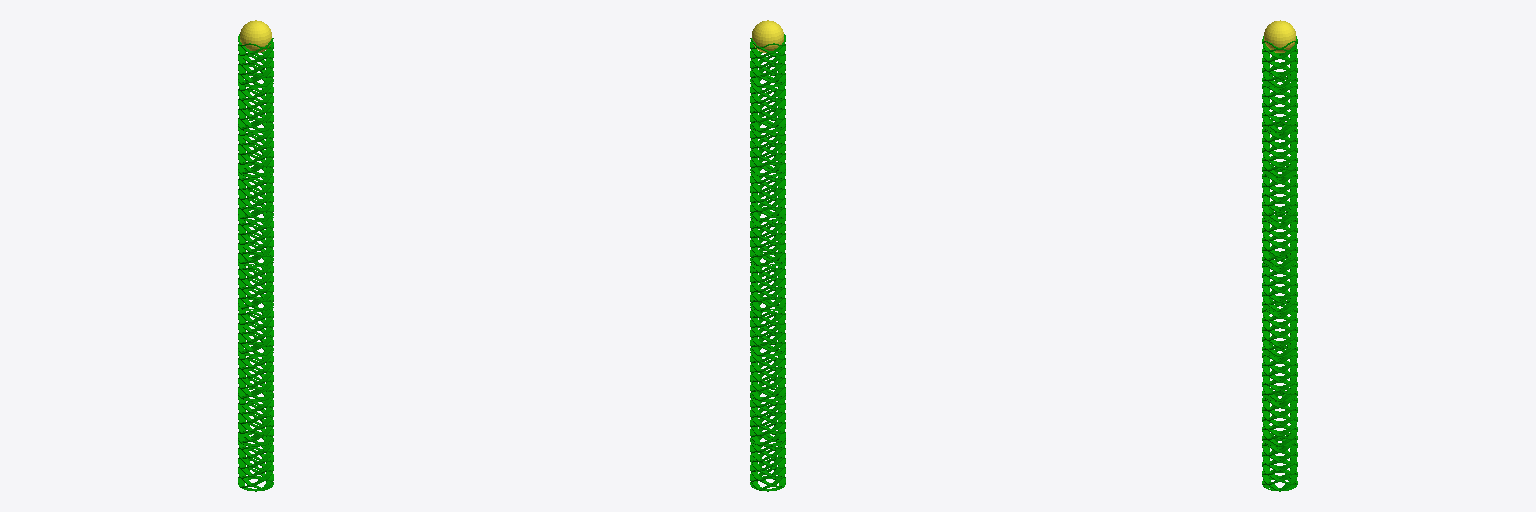
URDF robot description (flexy_arm):
<?xml version="1.0" ?>
<!-- =================================================================================== -->
<!-- |    This document was autogenerated by xacro from assets/flexy_arm.xacro         | -->
<!-- |    EDITING THIS FILE BY HAND IS NOT RECOMMENDED                                 | -->
<!-- =================================================================================== -->
<robot name="flexy_arm">
  <!-- Create the base link -->
  <link name="arm_base"/>
  <link name="arm_link_1">
    <visual>
      <geometry>
        <mesh filename="meshes/single_segment.dae" scale="0.0006 0.0006 0.00030000000000000003"/>
      </geometry>
      <origin xyz="0 0 0.015"/>
    </visual>
    <collision>
      <geometry>
        <cylinder length="0.03" radius="0.01"/>
      </geometry>
      <origin xyz="0 0 0.015"/>
    </collision>
    <inertial>
      <mass value="0.09090909090909091"/>
      <inertia ixx="9.090909090909091e-06" ixy="0.0" ixz="0.0" iyy="9.090909090909091e-06" iyz="0.0" izz="4.5454545454545455e-06"/>
    </inertial>
  </link>
  <joint name="arm_joint_1" type="revolute">
    <parent link="arm_base"/>
    <child link="arm_link_1"/>
    <axis xyz="1 0 0"/>
    <origin rpy="0.0 0.0 1.57079" xyz=" 0.0 0.0 0.0"/>
    <limit effort="10.0" lower="-1.57" upper="1.57" velocity="1.0"/>
  </joint>
  <!-- Create the next link -->
  <link name="arm_link_2">
    <visual>
      <geometry>
        <mesh filename="meshes/single_segment.dae" scale="0.0006 0.0006 0.00030000000000000003"/>
      </geometry>
      <origin xyz="0 0 0.015"/>
    </visual>
    <collision>
      <geometry>
        <cylinder length="0.03" radius="0.01"/>
      </geometry>
      <origin xyz="0 0 0.015"/>
    </collision>
    <inertial>
      <mass value="0.09090909090909091"/>
      <inertia ixx="9.090909090909091e-06" ixy="0.0" ixz="0.0" iyy="9.090909090909091e-06" iyz="0.0" izz="4.5454545454545455e-06"/>
    </inertial>
  </link>
  <!-- Create the revolute joint -->
  <joint name="arm_joint_2" type="revolute">
    <parent link="arm_link_1"/>
    <child link="arm_link_2"/>
    <axis xyz="1 0 0"/>
    <origin rpy="0 0 0" xyz="0 0 0.03"/>
    <limit effort="10.0" lower="-1.57" upper="1.57" velocity="1.0"/>
  </joint>
  <!-- Create the next link -->
  <link name="arm_link_3">
    <visual>
      <geometry>
        <mesh filename="meshes/single_segment.dae" scale="0.0006 0.0006 0.00030000000000000003"/>
      </geometry>
      <origin xyz="0 0 0.015"/>
    </visual>
    <collision>
      <geometry>
        <cylinder length="0.03" radius="0.01"/>
      </geometry>
      <origin xyz="0 0 0.015"/>
    </collision>
    <inertial>
      <mass value="0.09090909090909091"/>
      <inertia ixx="9.090909090909091e-06" ixy="0.0" ixz="0.0" iyy="9.090909090909091e-06" iyz="0.0" izz="4.5454545454545455e-06"/>
    </inertial>
  </link>
  <!-- Create the revolute joint -->
  <joint name="arm_joint_3" type="revolute">
    <parent link="arm_link_2"/>
    <child link="arm_link_3"/>
    <axis xyz="1 0 0"/>
    <origin rpy="0 0 0" xyz="0 0 0.03"/>
    <limit effort="10.0" lower="-1.57" upper="1.57" velocity="1.0"/>
  </joint>
  <!-- Create the next link -->
  <link name="arm_link_4">
    <visual>
      <geometry>
        <mesh filename="meshes/single_segment.dae" scale="0.0006 0.0006 0.00030000000000000003"/>
      </geometry>
      <origin xyz="0 0 0.015"/>
    </visual>
    <collision>
      <geometry>
        <cylinder length="0.03" radius="0.01"/>
      </geometry>
      <origin xyz="0 0 0.015"/>
    </collision>
    <inertial>
      <mass value="0.09090909090909091"/>
      <inertia ixx="9.090909090909091e-06" ixy="0.0" ixz="0.0" iyy="9.090909090909091e-06" iyz="0.0" izz="4.5454545454545455e-06"/>
    </inertial>
  </link>
  <!-- Create the revolute joint -->
  <joint name="arm_joint_4" type="revolute">
    <parent link="arm_link_3"/>
    <child link="arm_link_4"/>
    <axis xyz="1 0 0"/>
    <origin rpy="0 0 0" xyz="0 0 0.03"/>
    <limit effort="10.0" lower="-1.57" upper="1.57" velocity="1.0"/>
  </joint>
  <!-- Create the next link -->
  <link name="arm_link_5">
    <visual>
      <geometry>
        <mesh filename="meshes/single_segment.dae" scale="0.0006 0.0006 0.00030000000000000003"/>
      </geometry>
      <origin xyz="0 0 0.015"/>
    </visual>
    <collision>
      <geometry>
        <cylinder length="0.03" radius="0.01"/>
      </geometry>
      <origin xyz="0 0 0.015"/>
    </collision>
    <inertial>
      <mass value="0.09090909090909091"/>
      <inertia ixx="9.090909090909091e-06" ixy="0.0" ixz="0.0" iyy="9.090909090909091e-06" iyz="0.0" izz="4.5454545454545455e-06"/>
    </inertial>
  </link>
  <!-- Create the revolute joint -->
  <joint name="arm_joint_5" type="revolute">
    <parent link="arm_link_4"/>
    <child link="arm_link_5"/>
    <axis xyz="1 0 0"/>
    <origin rpy="0 0 0" xyz="0 0 0.03"/>
    <limit effort="10.0" lower="-1.57" upper="1.57" velocity="1.0"/>
  </joint>
  <!-- Create the next link -->
  <link name="arm_link_6">
    <visual>
      <geometry>
        <mesh filename="meshes/single_segment.dae" scale="0.0006 0.0006 0.00030000000000000003"/>
      </geometry>
      <origin xyz="0 0 0.015"/>
    </visual>
    <collision>
      <geometry>
        <cylinder length="0.03" radius="0.01"/>
      </geometry>
      <origin xyz="0 0 0.015"/>
    </collision>
    <inertial>
      <mass value="0.09090909090909091"/>
      <inertia ixx="9.090909090909091e-06" ixy="0.0" ixz="0.0" iyy="9.090909090909091e-06" iyz="0.0" izz="4.5454545454545455e-06"/>
    </inertial>
  </link>
  <!-- Create the revolute joint -->
  <joint name="arm_joint_6" type="revolute">
    <parent link="arm_link_5"/>
    <child link="arm_link_6"/>
    <axis xyz="1 0 0"/>
    <origin rpy="0 0 0" xyz="0 0 0.03"/>
    <limit effort="10.0" lower="-1.57" upper="1.57" velocity="1.0"/>
  </joint>
  <!-- Create the next link -->
  <link name="arm_link_7">
    <visual>
      <geometry>
        <mesh filename="meshes/single_segment.dae" scale="0.0006 0.0006 0.00030000000000000003"/>
      </geometry>
      <origin xyz="0 0 0.015"/>
    </visual>
    <collision>
      <geometry>
        <cylinder length="0.03" radius="0.01"/>
      </geometry>
      <origin xyz="0 0 0.015"/>
    </collision>
    <inertial>
      <mass value="0.09090909090909091"/>
      <inertia ixx="9.090909090909091e-06" ixy="0.0" ixz="0.0" iyy="9.090909090909091e-06" iyz="0.0" izz="4.5454545454545455e-06"/>
    </inertial>
  </link>
  <!-- Create the revolute joint -->
  <joint name="arm_joint_7" type="revolute">
    <parent link="arm_link_6"/>
    <child link="arm_link_7"/>
    <axis xyz="1 0 0"/>
    <origin rpy="0 0 0" xyz="0 0 0.03"/>
    <limit effort="10.0" lower="-1.57" upper="1.57" velocity="1.0"/>
  </joint>
  <!-- Create the next link -->
  <link name="arm_link_8">
    <visual>
      <geometry>
        <mesh filename="meshes/single_segment.dae" scale="0.0006 0.0006 0.00030000000000000003"/>
      </geometry>
      <origin xyz="0 0 0.015"/>
    </visual>
    <collision>
      <geometry>
        <cylinder length="0.03" radius="0.01"/>
      </geometry>
      <origin xyz="0 0 0.015"/>
    </collision>
    <inertial>
      <mass value="0.09090909090909091"/>
      <inertia ixx="9.090909090909091e-06" ixy="0.0" ixz="0.0" iyy="9.090909090909091e-06" iyz="0.0" izz="4.5454545454545455e-06"/>
    </inertial>
  </link>
  <!-- Create the revolute joint -->
  <joint name="arm_joint_8" type="revolute">
    <parent link="arm_link_7"/>
    <child link="arm_link_8"/>
    <axis xyz="1 0 0"/>
    <origin rpy="0 0 0" xyz="0 0 0.03"/>
    <limit effort="10.0" lower="-1.57" upper="1.57" velocity="1.0"/>
  </joint>
  <!-- Create the next link -->
  <link name="arm_link_9">
    <visual>
      <geometry>
        <mesh filename="meshes/single_segment.dae" scale="0.0006 0.0006 0.00030000000000000003"/>
      </geometry>
      <origin xyz="0 0 0.015"/>
    </visual>
    <collision>
      <geometry>
        <cylinder length="0.03" radius="0.01"/>
      </geometry>
      <origin xyz="0 0 0.015"/>
    </collision>
    <inertial>
      <mass value="0.09090909090909091"/>
      <inertia ixx="9.090909090909091e-06" ixy="0.0" ixz="0.0" iyy="9.090909090909091e-06" iyz="0.0" izz="4.5454545454545455e-06"/>
    </inertial>
  </link>
  <!-- Create the revolute joint -->
  <joint name="arm_joint_9" type="revolute">
    <parent link="arm_link_8"/>
    <child link="arm_link_9"/>
    <axis xyz="1 0 0"/>
    <origin rpy="0 0 0" xyz="0 0 0.03"/>
    <limit effort="10.0" lower="-1.57" upper="1.57" velocity="1.0"/>
  </joint>
  <!-- Create the next link -->
  <link name="arm_link_10">
    <visual>
      <geometry>
        <mesh filename="meshes/single_segment.dae" scale="0.0006 0.0006 0.00030000000000000003"/>
      </geometry>
      <origin xyz="0 0 0.015"/>
    </visual>
    <collision>
      <geometry>
        <cylinder length="0.03" radius="0.01"/>
      </geometry>
      <origin xyz="0 0 0.015"/>
    </collision>
    <inertial>
      <mass value="0.09090909090909091"/>
      <inertia ixx="9.090909090909091e-06" ixy="0.0" ixz="0.0" iyy="9.090909090909091e-06" iyz="0.0" izz="4.5454545454545455e-06"/>
    </inertial>
  </link>
  <!-- Create the revolute joint -->
  <joint name="arm_joint_10" type="revolute">
    <parent link="arm_link_9"/>
    <child link="arm_link_10"/>
    <axis xyz="1 0 0"/>
    <origin rpy="0 0 0" xyz="0 0 0.03"/>
    <limit effort="10.0" lower="-1.57" upper="1.57" velocity="1.0"/>
  </joint>
  <link name="arm_sphere">
    <visual>
      <geometry>
        <sphere radius="0.01"/>
      </geometry>
      <origin xyz="0 0 0.01"/>
    </visual>
    <collision>
      <geometry>
        <sphere radius="0.01"/>
      </geometry>
      <origin xyz="0 0 0.01"/>
    </collision>
    <inertial>
      <mass value="0.09090909090909091"/>
      <inertia ixx="3.6363636363636366e-06" ixy="0.0" ixz="0.0" iyy="3.6363636363636366e-06" iyz="0.0" izz="3.6363636363636366e-06"/>
    </inertial>
  </link>
  <joint name="arm_fixed_joint_sphere" type="fixed">
    <parent link="arm_link_10"/>
    <child link="arm_sphere"/>
    <origin rpy="0 0 0" xyz="0 0 0.019999999999999997"/>
  </joint>
</robot>

--- Render facts (derived) ---
The picture shows the robot from 3 angles, left to right: view 1: azimuth 30°, elevation 25°; view 2: azimuth 150°, elevation 25°; view 3: azimuth 270°, elevation 25°; orthographic projection.
Model flexy_arm with 12 links and 11 joints (10 revolute, 1 fixed), rooted at arm_base, posed all joints at 0.
Visible links, largest first — view 1: arm_link_2, arm_link_8, arm_link_7, arm_link_6, arm_link_1, arm_link_5, arm_link_9, arm_link_4, arm_link_3, arm_link_10, arm_sphere; view 2: arm_link_2, arm_link_7, arm_link_6, arm_link_9, arm_link_1, arm_link_5, arm_link_3, arm_link_4, arm_link_8, arm_link_10, arm_sphere; view 3: arm_link_1, arm_link_5, arm_link_3, arm_link_7, arm_link_4, arm_link_6, arm_link_9, arm_link_2, arm_link_8, arm_link_10, arm_sphere.
Link boxes in pixels (x1=…): arm_link_2: x1=238, y1=389, x2=273, y2=446; arm_link_8: x1=238, y1=120, x2=273, y2=177; arm_link_7: x1=238, y1=165, x2=273, y2=222; arm_link_6: x1=238, y1=210, x2=273, y2=266; arm_link_1: x1=238, y1=434, x2=273, y2=491; arm_link_5: x1=238, y1=255, x2=273, y2=311; arm_link_9: x1=238, y1=75, x2=273, y2=132; arm_link_4: x1=238, y1=300, x2=273, y2=356; arm_link_3: x1=238, y1=344, x2=273, y2=401; arm_link_10: x1=238, y1=34, x2=273, y2=87; arm_sphere: x1=240, y1=20, x2=271, y2=52; arm_link_2: x1=750, y1=389, x2=785, y2=446; arm_link_7: x1=750, y1=165, x2=785, y2=221; arm_link_6: x1=750, y1=210, x2=785, y2=266; arm_link_9: x1=750, y1=75, x2=785, y2=132; arm_link_1: x1=750, y1=434, x2=785, y2=491; arm_link_5: x1=750, y1=255, x2=785, y2=311; arm_link_3: x1=750, y1=344, x2=785, y2=401; arm_link_4: x1=750, y1=300, x2=785, y2=356; arm_link_8: x1=750, y1=120, x2=785, y2=177; arm_link_10: x1=750, y1=34, x2=785, y2=87; arm_sphere: x1=752, y1=20, x2=783, y2=52; arm_link_1: x1=1262, y1=435, x2=1297, y2=491; arm_link_5: x1=1262, y1=256, x2=1297, y2=311; arm_link_3: x1=1262, y1=346, x2=1297, y2=401; arm_link_7: x1=1262, y1=166, x2=1297, y2=221; arm_link_4: x1=1262, y1=301, x2=1297, y2=356; arm_link_6: x1=1262, y1=211, x2=1297, y2=266; arm_link_9: x1=1262, y1=77, x2=1297, y2=132; arm_link_2: x1=1262, y1=390, x2=1297, y2=446; arm_link_8: x1=1262, y1=121, x2=1297, y2=177; arm_link_10: x1=1262, y1=36, x2=1297, y2=87; arm_sphere: x1=1264, y1=20, x2=1295, y2=52.
Bounding box of the posed robot: 0.0216 × 0.0216 × 0.3091 m (x, y, z).
10 mesh visuals loaded from 1 distinct referenced files (1 Collada DAE).